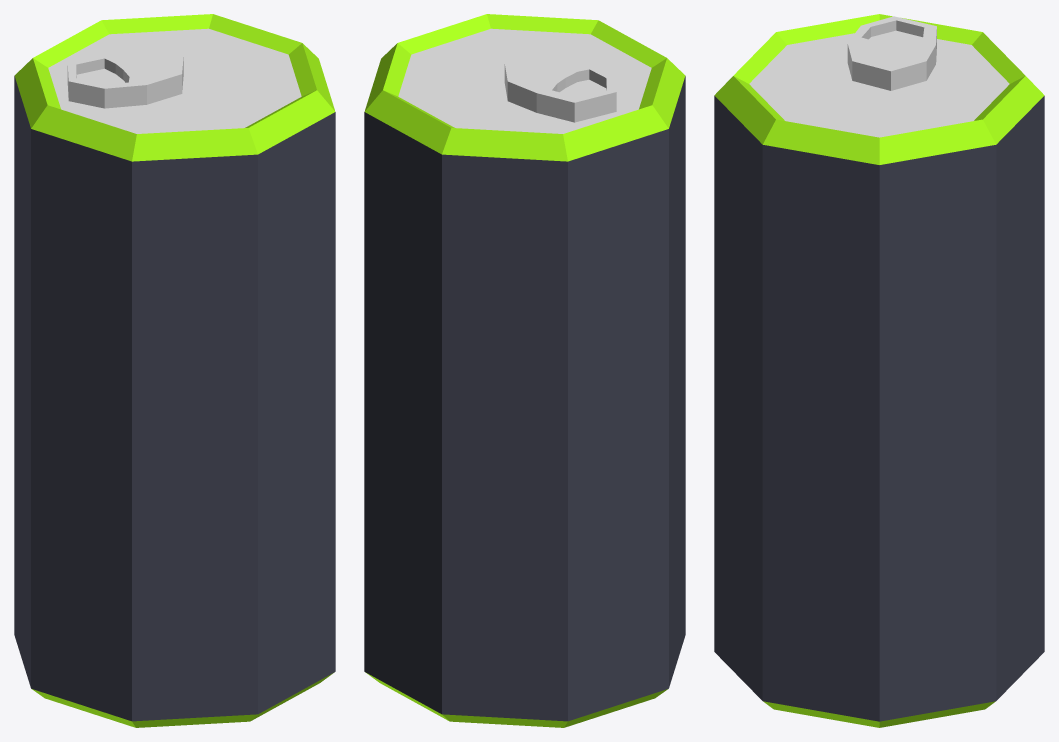
Rendered from VER 2 monstrous energy.fbx.
3 views of the same model, side by side, from view 1: azimuth 30°, elevation 25°; view 2: azimuth 150°, elevation 25°; view 3: azimuth 270°, elevation 25° (orthographic).
Visible parts, largest first — view 1: monstrous energy; view 2: monstrous energy; view 3: monstrous energy.
Part boxes in pixels (x1,y1,x2,y2): monstrous energy: (14,14,335,727); monstrous energy: (364,14,685,727); monstrous energy: (714,14,1044,727).
Size of the model in its own units: 0.4281 by 0.4281 by 0.8587.
